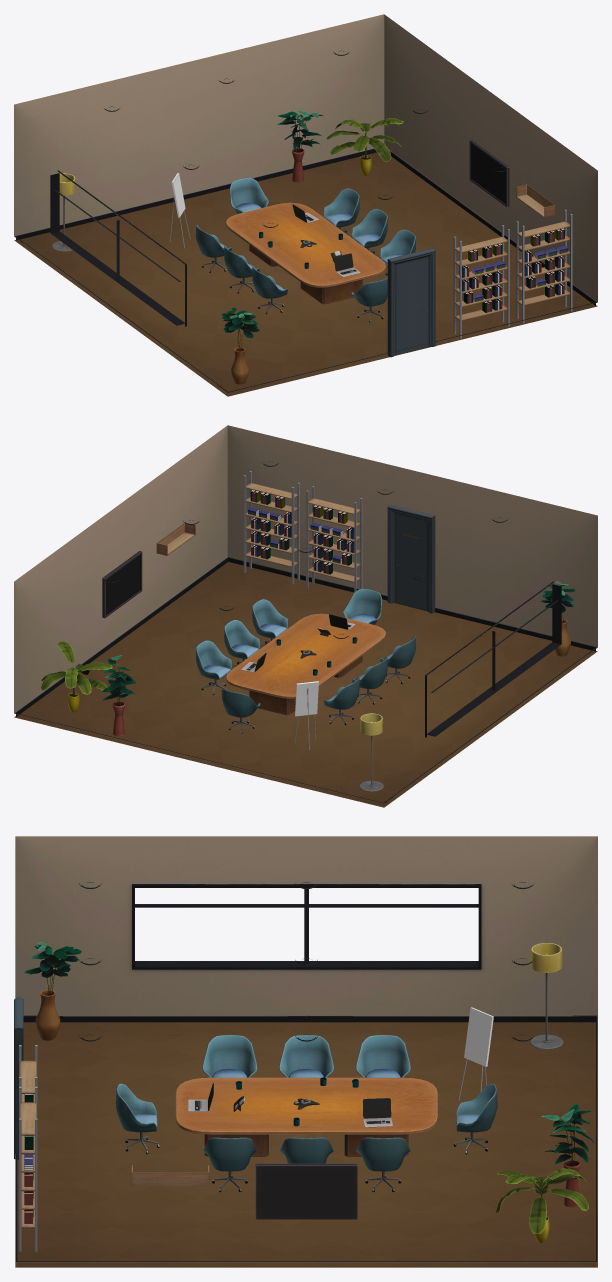
3 renders of one model, top to bottom at view 1: azimuth 30°, elevation 25°; view 2: azimuth 150°, elevation 25°; view 3: azimuth 270°, elevation 25°, orthographic. The views are drawn at different scales.
Visible parts, largest first — view 1: salle_10X10X3_50, table_reunion, CONF012, RANG000, PORT000, PLAN003, DECO045, TECH001, TECH004, LUMI006; view 2: salle_10X10X3_50, table_reunion, CONF012, RANG000, PORT000, DECO045, PLAN003, TECH001, LUMI006, TECH004; view 3: salle_10X10X3_50, table_reunion, CONF012, TECH001, PLAN003, RANG000, LUMI006, TECH004, PORT000, DECO045.
Boxes of the visible parts, bbox=[...] form: salle_10X10X3_50: bbox=[14, 14, 597, 396]; table_reunion: bbox=[226, 202, 385, 304]; CONF012: bbox=[196, 177, 415, 322]; RANG000: bbox=[453, 184, 572, 338]; PORT000: bbox=[387, 248, 435, 357]; PLAN003: bbox=[221, 110, 403, 384]; DECO045: bbox=[459, 228, 568, 312]; TECH001: bbox=[169, 140, 509, 248]; TECH004: bbox=[292, 204, 360, 276]; LUMI006: bbox=[52, 173, 75, 251]; salle_10X10X3_50: bbox=[14, 425, 597, 807]; table_reunion: bbox=[226, 613, 385, 715]; CONF012: bbox=[196, 588, 415, 733]; RANG000: bbox=[156, 471, 362, 592]; PORT000: bbox=[387, 504, 435, 613]; DECO045: bbox=[248, 490, 354, 574]; PLAN003: bbox=[41, 581, 575, 736]; TECH001: bbox=[102, 551, 318, 749]; LUMI006: bbox=[359, 713, 383, 791]; TECH004: bbox=[241, 614, 355, 672]; salle_10X10X3_50: bbox=[15, 836, 597, 1267]; table_reunion: bbox=[175, 1077, 437, 1156]; CONF012: bbox=[115, 1035, 497, 1192]; TECH001: bbox=[255, 1007, 493, 1219]; PLAN003: bbox=[24, 942, 594, 1242]; RANG000: bbox=[19, 1045, 209, 1251]; LUMI006: bbox=[530, 943, 563, 1049]; TECH004: bbox=[188, 1083, 392, 1127]; PORT000: bbox=[14, 997, 23, 1159]; DECO045: bbox=[24, 1094, 33, 1223].
Size of the model in its own units: 10.2 by 3.52 by 10.02.
